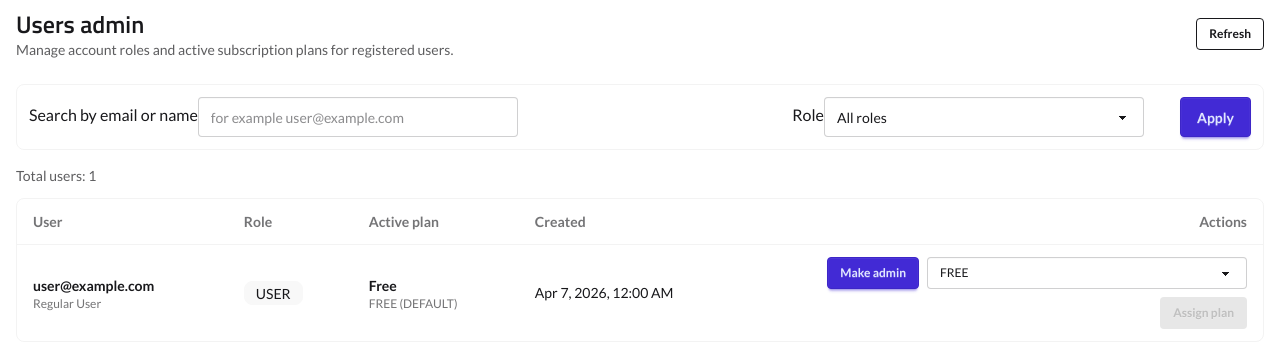
Test: AdminUsersPage › loads users and updates role
Check: the text "user@example.com" is shown, box [33,276,154,294]
Click the button with aria-label "Toggle role for user@example.com". click: (873, 273)
box: [827,257,919,289]
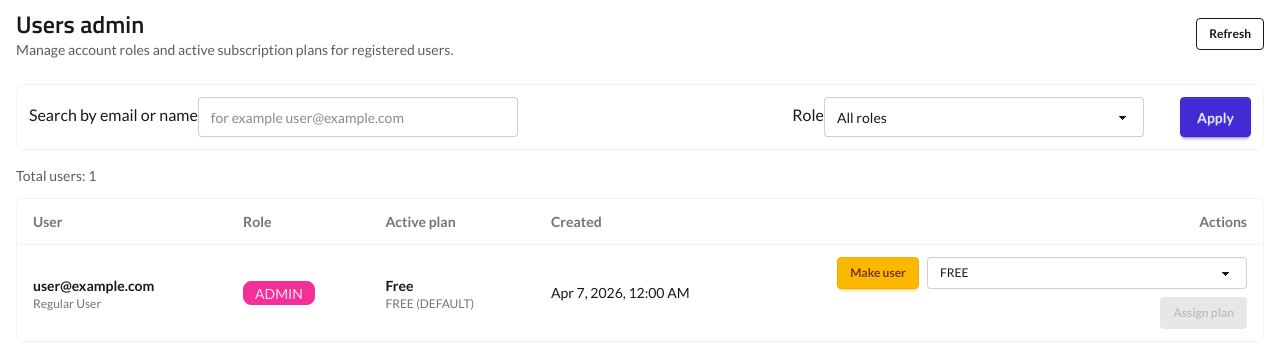
Check: the text "ADMIN" is shown, box [243,281,315,305]
